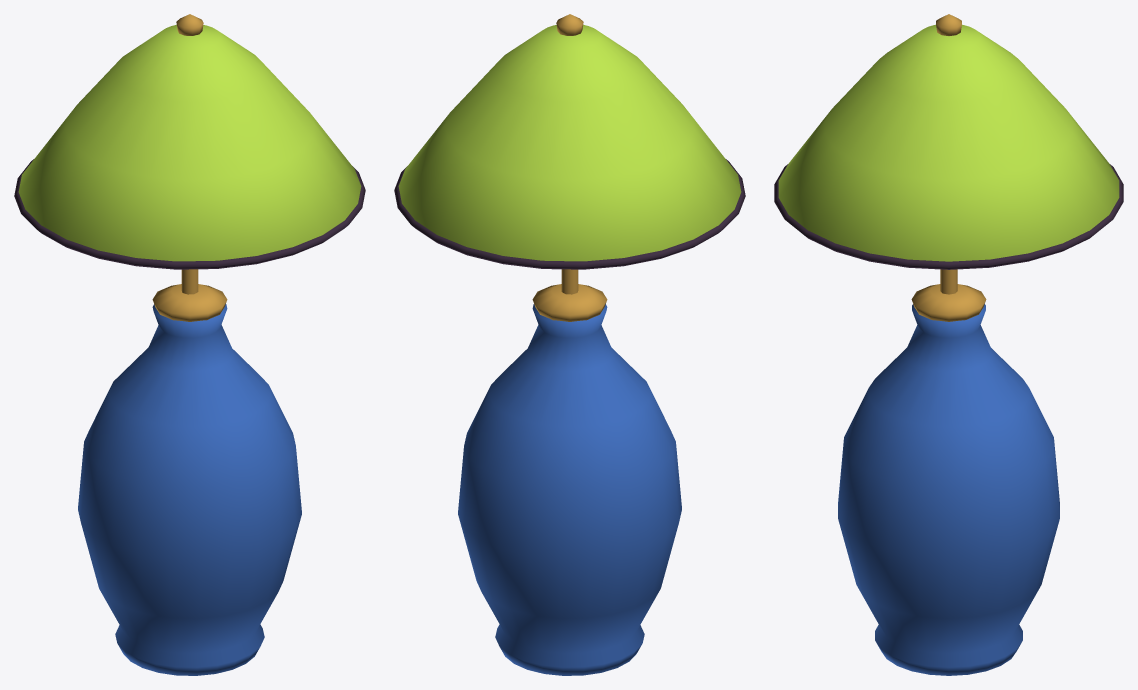
Rendered from cone_lamp.glb.
3 views of the same model, side by side, from view 1: azimuth 30°, elevation 25°; view 2: azimuth 150°, elevation 25°; view 3: azimuth 270°, elevation 25° (orthographic).
Parts seen in each view (by area): view 1: cone_lamp; view 2: cone_lamp; view 3: cone_lamp.
Part boxes in pixels (x1,y1,x2,y2): cone_lamp: (14, 14, 365, 675); cone_lamp: (394, 14, 745, 675); cone_lamp: (774, 14, 1123, 675).
Size of the model in its own units: 0.564 by 1.12 by 0.5599.
